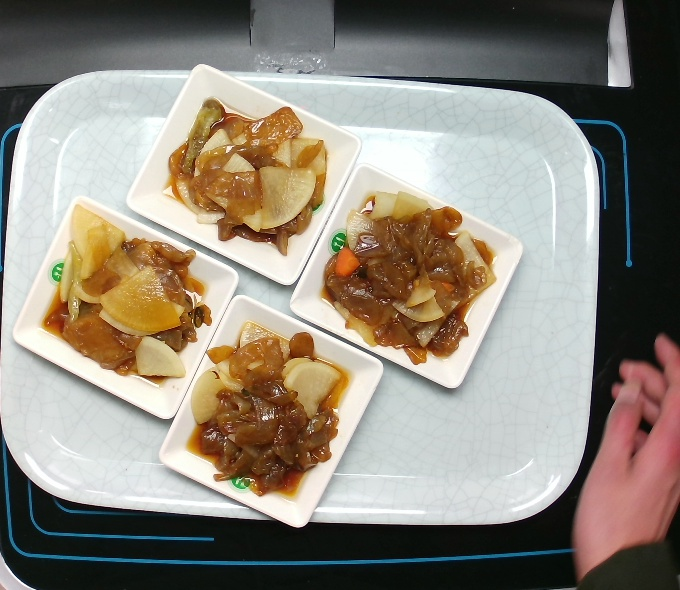wcq-HaiZheTou: (40, 202, 218, 392), (319, 186, 498, 366), (185, 317, 350, 500), (166, 94, 333, 258)
